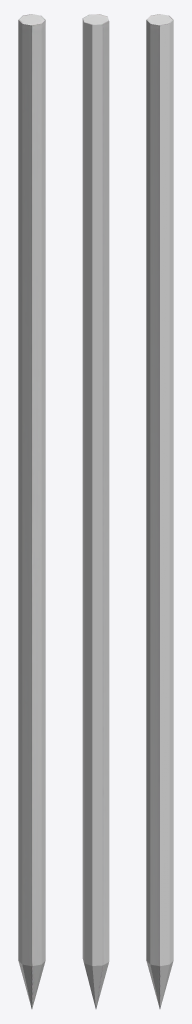
File: roof_cursor.glb
The picture shows the model from 3 angles, left to right: view 1: azimuth 90°, elevation 25°; view 2: azimuth 210°, elevation 25°; view 3: azimuth 270°, elevation 25°; orthographic projection.
Parts seen in each view (by area): view 1: Roof_Cursor.Bake; view 2: Roof_Cursor.Bake; view 3: Roof_Cursor.Bake.
Part boxes in pixels (box(x1,y1,x2,y2)): Roof_Cursor.Bake: box(18, 14, 45, 1008); Roof_Cursor.Bake: box(82, 14, 109, 1008); Roof_Cursor.Bake: box(146, 14, 173, 1008).
Bounding box in the file's own units: 0.1 × 4 × 0.1.
1 material, 1 textured.
